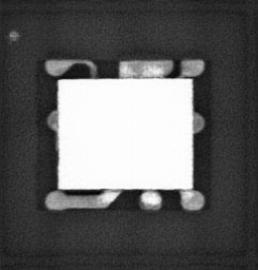DIE_INK: (8, 29, 20, 41)
